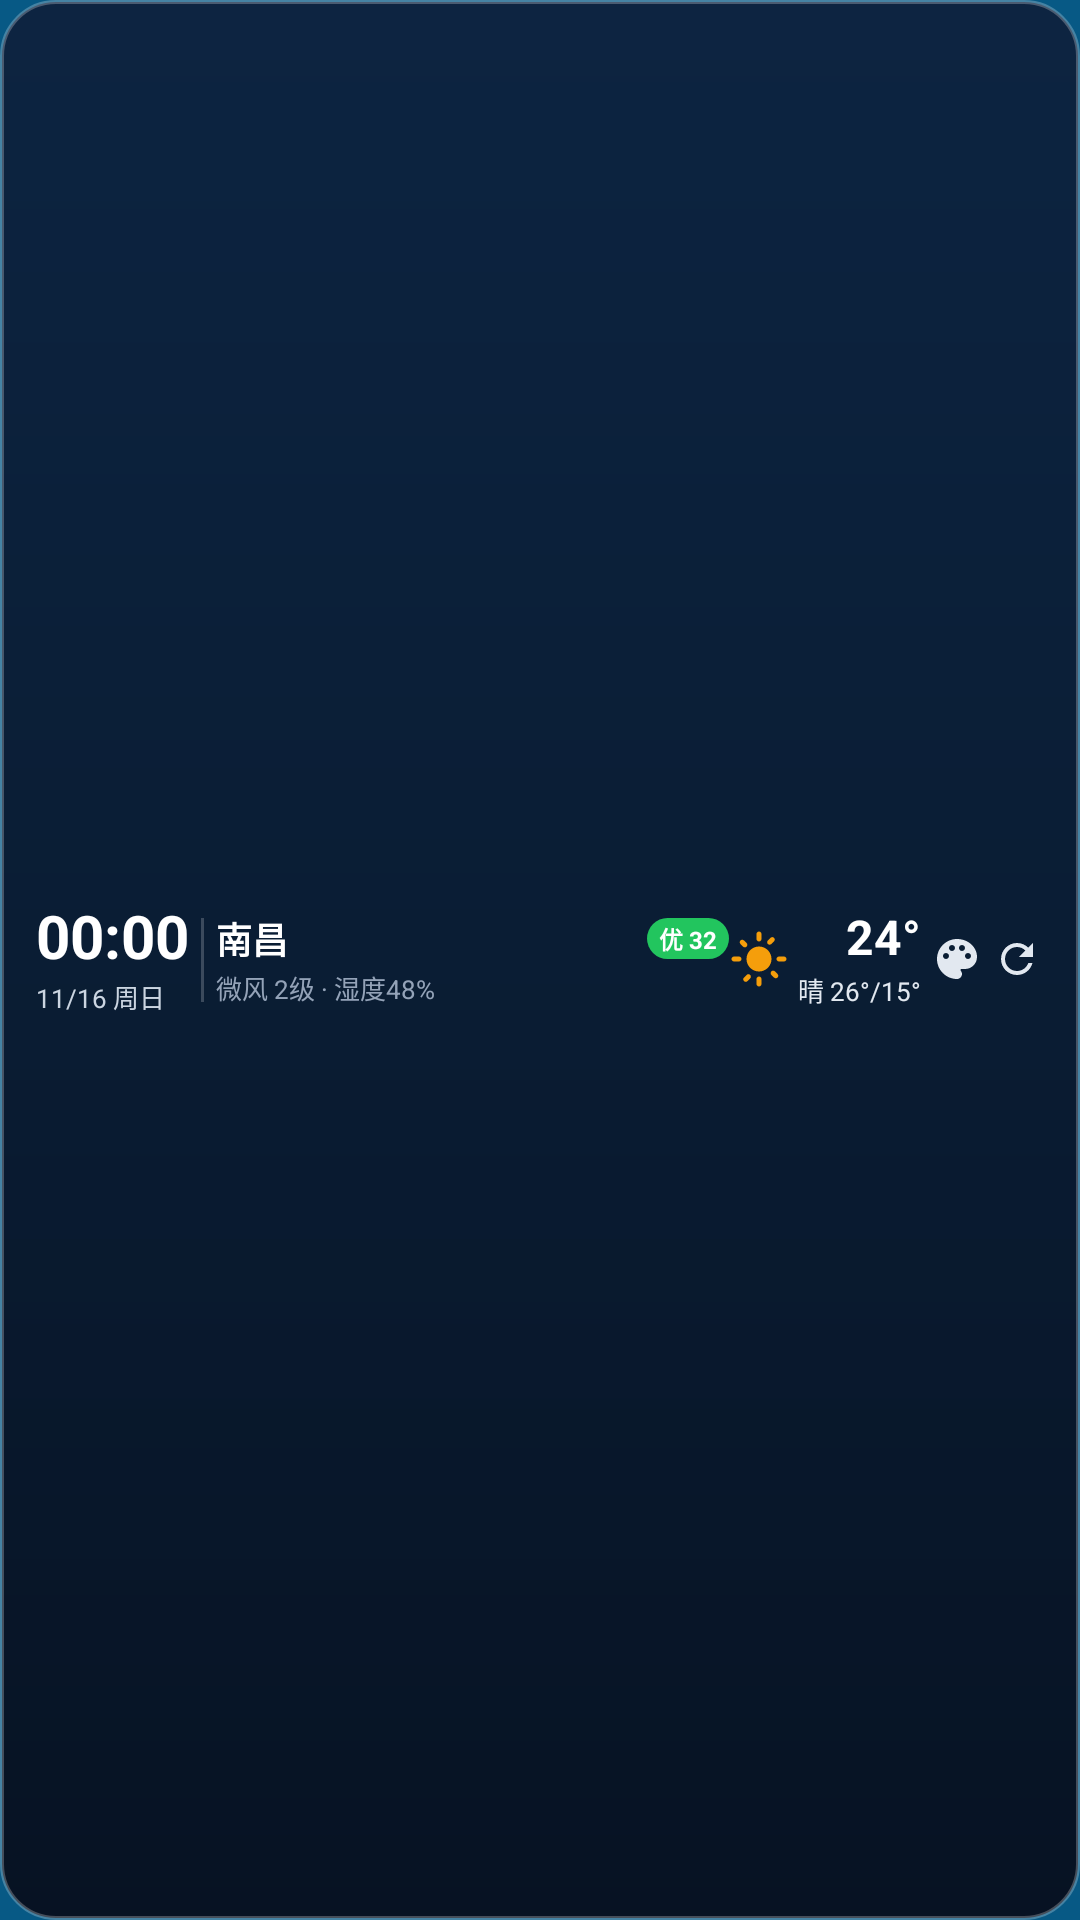

Icons on this 1080px×1920px Android screen, each with the point to tap as [x,y]:
weather sunny: [759,959]
切换小部件皮肤: [957,959]
立即刷新小部件天气: [1017,959]
